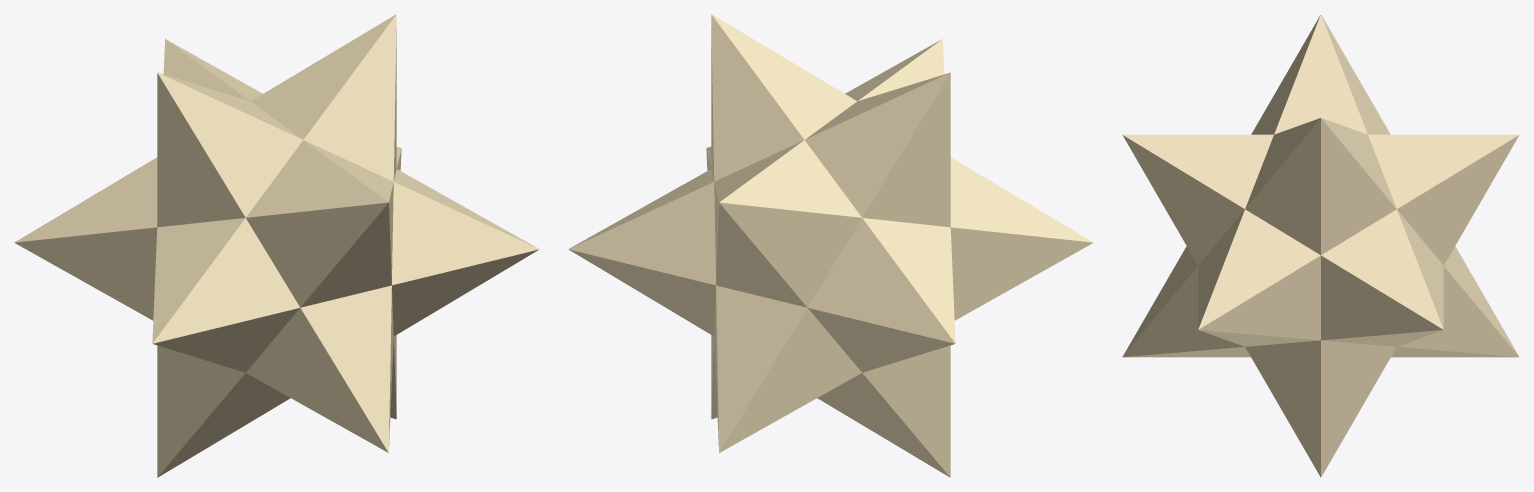
3 views of the same model, side by side, from view 1: azimuth 30°, elevation 25°; view 2: azimuth 150°, elevation 25°; view 3: azimuth 270°, elevation 25° (orthographic). The views are drawn at different scales.
Visible parts, largest first — view 1: Small_Stellated_Dodecahedron_from_OBJ; view 2: Small_Stellated_Dodecahedron_from_OBJ; view 3: Small_Stellated_Dodecahedron_from_OBJ.
Boxes of the visible parts, bbox=[...] form: Small_Stellated_Dodecahedron_from_OBJ: bbox=[14, 14, 539, 477]; Small_Stellated_Dodecahedron_from_OBJ: bbox=[568, 14, 1093, 477]; Small_Stellated_Dodecahedron_from_OBJ: bbox=[1122, 14, 1519, 477].
Size of the model in its own units: 10 by 10 by 10.
